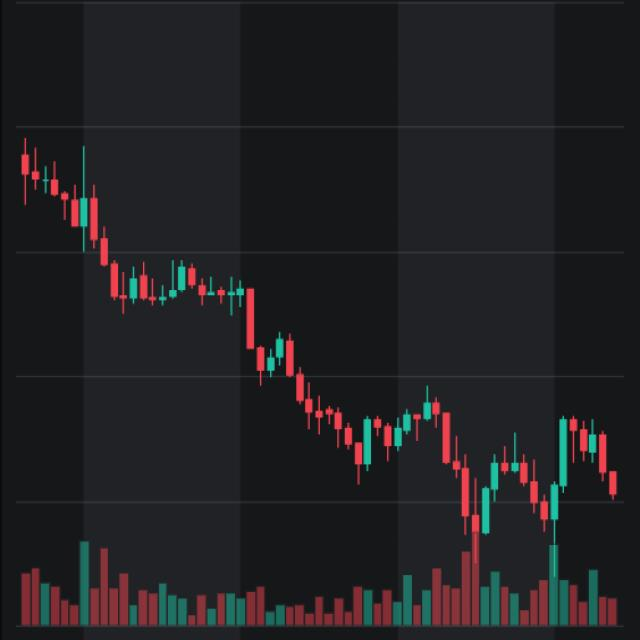Support-breakout: (112, 260, 489, 528)
